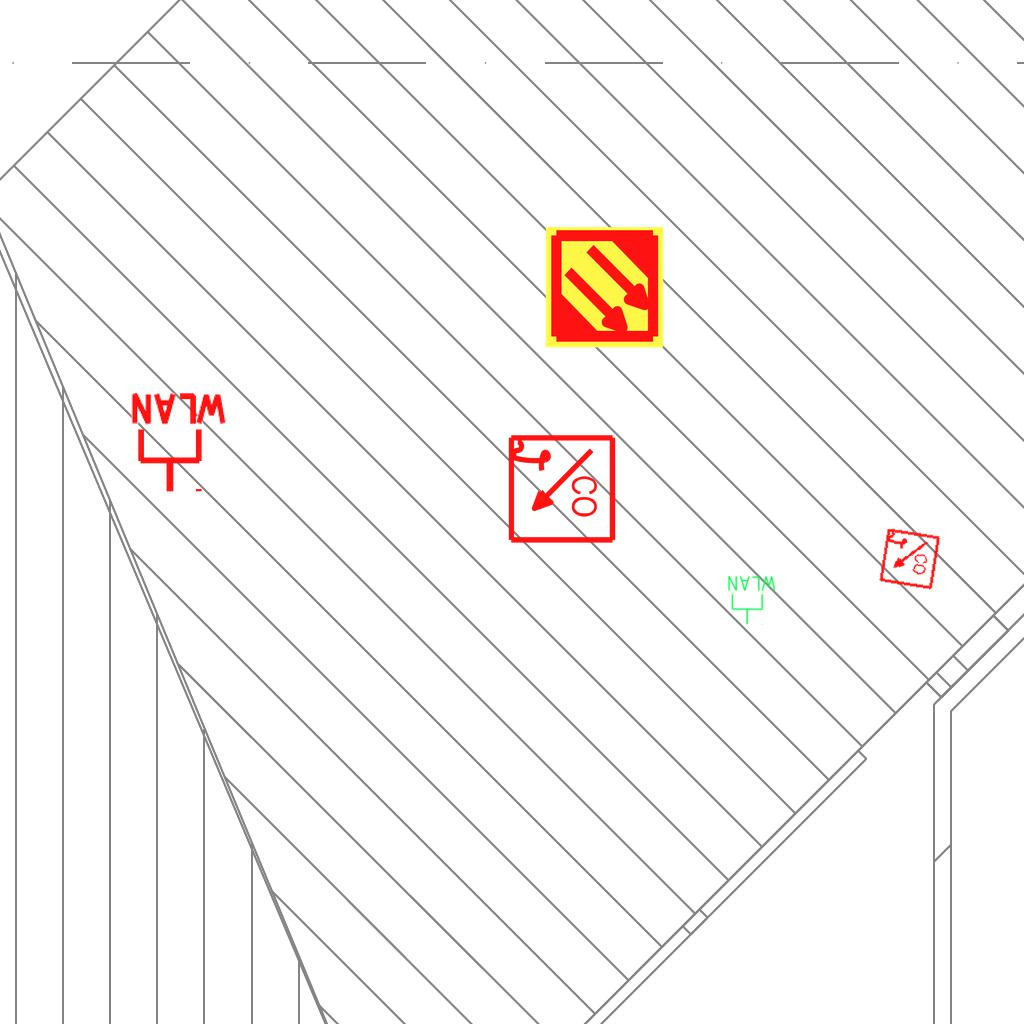ASR_Ansaugrauchmelder: (542, 225, 667, 350)
ROA_Rauchmelder_optisch_mit_Signalgeber_(Sockelsirene): (504, 433, 617, 546), (876, 526, 942, 592)
WLAN: (127, 391, 231, 496), (726, 574, 778, 626)
